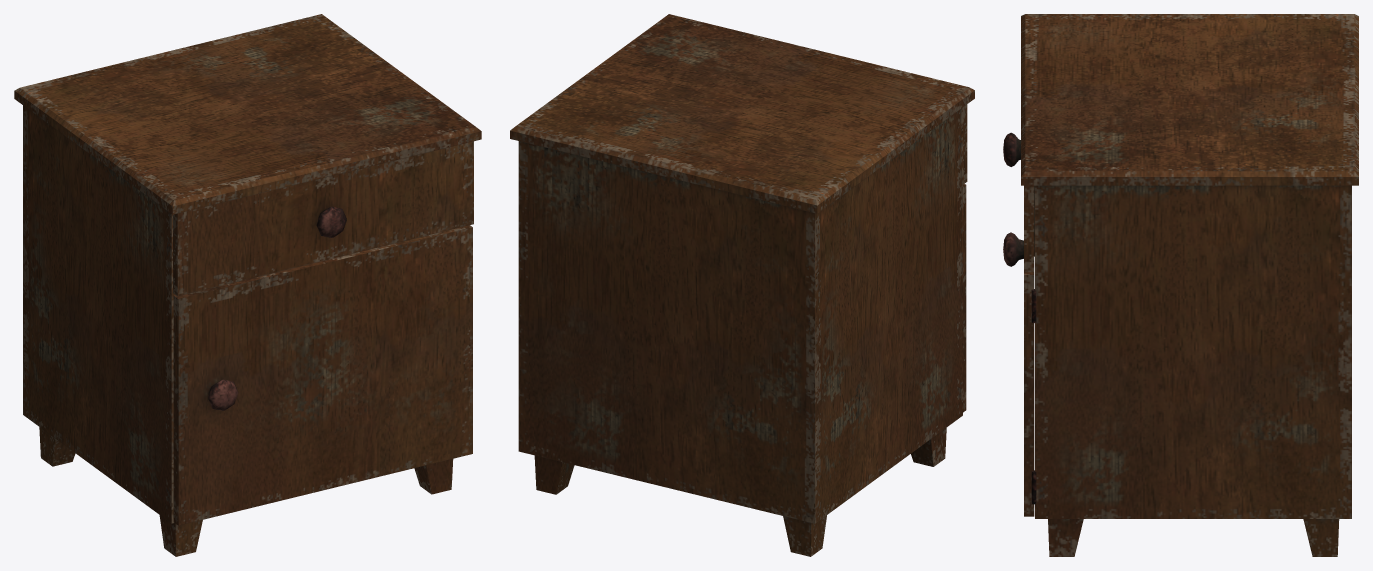
File: BS_table.fbx
3 renders of one model, left to right at view 1: azimuth 30°, elevation 25°; view 2: azimuth 150°, elevation 25°; view 3: azimuth 270°, elevation 25°, orthographic. The views are drawn at different scales.
Parts seen in each view (by area): view 1: BS_table, Door, Box; view 2: BS_table, Door; view 3: BS_table, Door, Box.
Part boxes in pixels (x1,y1,x2,y2): BS_table: (14,14,481,556); Door: (173,225,472,525); Box: (173,141,473,296); BS_table: (510,14,974,556); Door: (963,184,966,412); BS_table: (1021,14,1358,556); Door: (1003,232,1034,516); Box: (1003,132,1034,272).
Bounding box in the file's own units: 51.96 × 59.15 × 48.58.
Materials: 1 (1 with a texture image).
